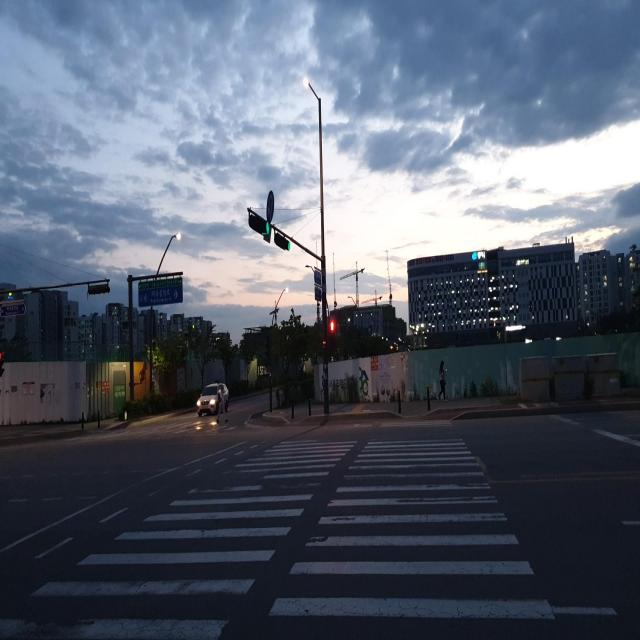빨간불: (327, 318, 337, 355)
횡단보도: (0, 432, 559, 639)
